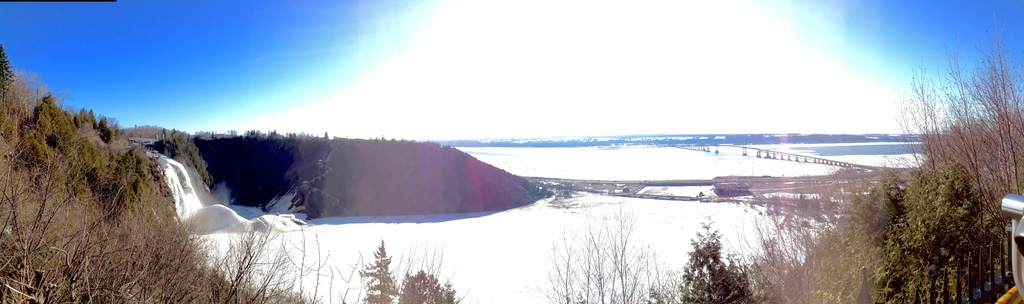Tree: (529, 14, 1023, 303), (0, 44, 357, 303), (355, 237, 396, 303), (391, 273, 461, 303)
